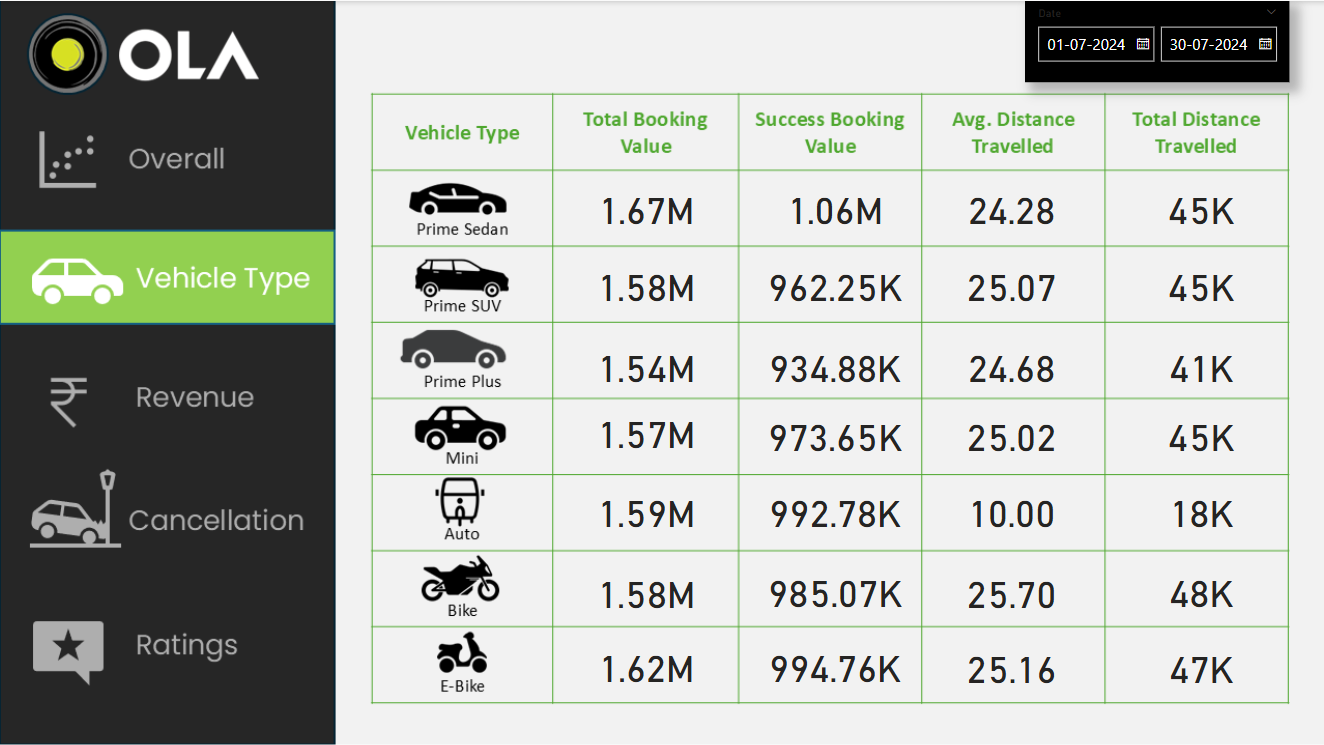

This screenshot's page, from the dashboard's own definition file:
{"tool":"powerbi","page":{"name":"Vehicle Type","canvas":[1280,720],"ordinal":1},"visuals":[{"type":"actionButton","box":[0,106.6,325,93.4],"z":0},{"type":"actionButton","box":[0,444.7,325,93.4],"z":1000},{"type":"actionButton","box":[0,580.3,325,93.4],"z":2000},{"type":"actionButton","box":[0,338.2,325,93.4],"z":3000},{"type":"card","fields":{"Values":["Sum(July (2).Booking_Value)"]},"box":[539.3,167.4,170.2,64.5],"z":4000},{"type":"card","fields":{"Values":["Sum(July (2).Booking_Value)"]},"box":[539.3,241.5,170.2,64.5],"z":5000},{"type":"card","fields":{"Values":["Sum(July (2).Booking_Value)"]},"box":[539.3,319.7,170.2,64.5],"z":6000},{"type":"card","fields":{"Values":["Sum(July (2).Booking_Value)"]},"box":[539.3,384.2,170.2,64.5],"z":7000},{"type":"card","fields":{"Values":["Sum(July (2).Booking_Value)"]},"box":[539.3,459.7,170.2,64.5],"z":8000},{"type":"card","fields":{"Values":["Sum(July (2).Booking_Value)"]},"box":[539.3,537.9,170.2,64.5],"z":9000},{"type":"card","fields":{"Values":["Sum(July (2).Booking_Value)"]},"box":[539.3,609.3,170.2,64.5],"z":10000},{"type":"card","fields":{"Values":["Sum(July (2).Booking_Value)"]},"box":[721.8,167.4,170.2,64.5],"z":11000},{"type":"card","fields":{"Values":["Sum(July (2).Booking_Value)"]},"box":[721.8,241.5,170.2,64.5],"z":12000},{"type":"card","fields":{"Values":["Sum(July (2).Booking_Value)"]},"box":[721.8,319.7,170.2,64.5],"z":13000},{"type":"card","fields":{"Values":["Sum(July (2).Booking_Value)"]},"box":[721.8,385.6,170.2,64.5],"z":14000},{"type":"card","fields":{"Values":["Sum(July (2).Booking_Value)"]},"box":[721.8,459.7,170.2,64.5],"z":15000},{"type":"card","fields":{"Values":["Sum(July (2).Booking_Value)"]},"box":[721.8,609.3,170.2,64.5],"z":16000},{"type":"card","fields":{"Values":["Sum(July (2).Booking_Value)"]},"box":[721.8,536.5,170.2,64.5],"z":17000},{"type":"card","fields":{"Values":["Avg(July (2).Ride_Distance)"]},"box":[891.9,167.4,170.2,64.5],"z":18000},{"type":"card","fields":{"Values":["Avg(July (2).Ride_Distance)"]},"box":[891.9,241.5,170.2,64.5],"z":19000},{"type":"card","fields":{"Values":["Avg(July (2).Ride_Distance)"]},"box":[891.9,319.7,170.2,64.5],"z":20000},{"type":"card","fields":{"Values":["Avg(July (2).Ride_Distance)"]},"box":[891.9,385.6,170.2,64.5],"z":21000},{"type":"card","fields":{"Values":["Avg(July (2).Ride_Distance)"]},"box":[891.9,459.7,170.2,64.5],"z":22000},{"type":"card","fields":{"Values":["Avg(July (2).Ride_Distance)"]},"box":[891.9,537.9,170.2,64.5],"z":23000},{"type":"card","fields":{"Values":["Avg(July (2).Ride_Distance)"]},"box":[891.9,610.6,170.2,64.5],"z":24000},{"type":"card","fields":{"Values":["Sum(July (2).Ride_Distance)"]},"box":[1074.4,167.4,170.2,64.5],"z":25000},{"type":"card","fields":{"Values":["Sum(July (2).Ride_Distance)"]},"box":[1074.4,241.5,170.2,64.5],"z":26000},{"type":"card","fields":{"Values":["Sum(July (2).Ride_Distance)"]},"box":[1074.4,319.7,170.2,64.5],"z":27000},{"type":"card","fields":{"Values":["Sum(July (2).Ride_Distance)"]},"box":[1074.4,385.6,170.2,64.5],"z":28000},{"type":"card","fields":{"Values":["Sum(July (2).Ride_Distance)"]},"box":[1074.4,459.7,170.2,64.5],"z":29000},{"type":"card","fields":{"Values":["Sum(July (2).Ride_Distance)"]},"box":[1074.4,536.5,170.2,64.5],"z":30000},{"type":"card","fields":{"Values":["Sum(July (2).Ride_Distance)"]},"box":[1074.4,610.6,170.2,64.5],"z":31000},{"type":"slicer","title":"Date","fields":{"Values":["July (2).Date"]},"box":[989.4,0,255.2,78.2],"z":32000}]}

Visuals, with their boxes on the page's 1280x720 design canvas (x1, y1, x2, y2). These are canvas units, not pixel positions in the 1324x745 screenshot, which may show the page scaled, cropped or inside an application window:
actionButton: l=0, t=107, r=325, b=200
actionButton: l=0, t=445, r=325, b=538
actionButton: l=0, t=580, r=325, b=674
actionButton: l=0, t=338, r=325, b=432
card - Sum(July (2).Booking_Value): l=539, t=167, r=710, b=232
card - Sum(July (2).Booking_Value): l=539, t=242, r=710, b=306
card - Sum(July (2).Booking_Value): l=539, t=320, r=710, b=384
card - Sum(July (2).Booking_Value): l=539, t=384, r=710, b=449
card - Sum(July (2).Booking_Value): l=539, t=460, r=710, b=524
card - Sum(July (2).Booking_Value): l=539, t=538, r=710, b=602
card - Sum(July (2).Booking_Value): l=539, t=609, r=710, b=674
card - Sum(July (2).Booking_Value): l=722, t=167, r=892, b=232
card - Sum(July (2).Booking_Value): l=722, t=242, r=892, b=306
card - Sum(July (2).Booking_Value): l=722, t=320, r=892, b=384
card - Sum(July (2).Booking_Value): l=722, t=386, r=892, b=450
card - Sum(July (2).Booking_Value): l=722, t=460, r=892, b=524
card - Sum(July (2).Booking_Value): l=722, t=609, r=892, b=674
card - Sum(July (2).Booking_Value): l=722, t=536, r=892, b=601
card - Avg(July (2).Ride_Distance): l=892, t=167, r=1062, b=232
card - Avg(July (2).Ride_Distance): l=892, t=242, r=1062, b=306
card - Avg(July (2).Ride_Distance): l=892, t=320, r=1062, b=384
card - Avg(July (2).Ride_Distance): l=892, t=386, r=1062, b=450
card - Avg(July (2).Ride_Distance): l=892, t=460, r=1062, b=524
card - Avg(July (2).Ride_Distance): l=892, t=538, r=1062, b=602
card - Avg(July (2).Ride_Distance): l=892, t=611, r=1062, b=675
card - Sum(July (2).Ride_Distance): l=1074, t=167, r=1245, b=232
card - Sum(July (2).Ride_Distance): l=1074, t=242, r=1245, b=306
card - Sum(July (2).Ride_Distance): l=1074, t=320, r=1245, b=384
card - Sum(July (2).Ride_Distance): l=1074, t=386, r=1245, b=450
card - Sum(July (2).Ride_Distance): l=1074, t=460, r=1245, b=524
card - Sum(July (2).Ride_Distance): l=1074, t=536, r=1245, b=601
card - Sum(July (2).Ride_Distance): l=1074, t=611, r=1245, b=675
"Date" slicer: l=989, t=0, r=1245, b=78
